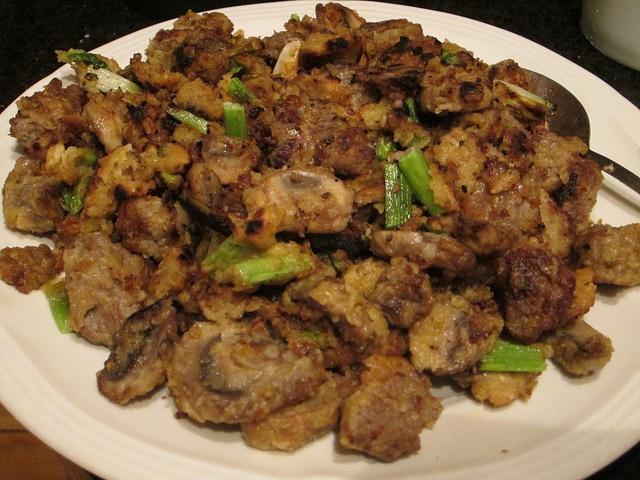green onion: (397, 148, 443, 218), (232, 255, 311, 286), (202, 234, 252, 282), (478, 337, 546, 372), (40, 276, 74, 334), (384, 162, 412, 230), (85, 64, 144, 95), (166, 107, 212, 135), (66, 50, 113, 72), (226, 77, 261, 104), (224, 102, 248, 140), (68, 178, 90, 215), (376, 137, 398, 162), (403, 99, 420, 123), (408, 137, 431, 150), (440, 54, 464, 66), (228, 59, 243, 74), (302, 331, 319, 338), (291, 13, 300, 21)
mushroom: (165, 314, 325, 424), (242, 74, 378, 175), (338, 357, 443, 462), (96, 296, 188, 404), (240, 370, 360, 452), (242, 168, 356, 246), (63, 230, 147, 333), (522, 128, 604, 226), (534, 310, 616, 379), (408, 299, 473, 375), (368, 258, 433, 330), (4, 157, 65, 232), (369, 230, 476, 272), (8, 92, 67, 148), (202, 134, 261, 186), (345, 161, 388, 208), (300, 42, 364, 70), (186, 162, 223, 208)
